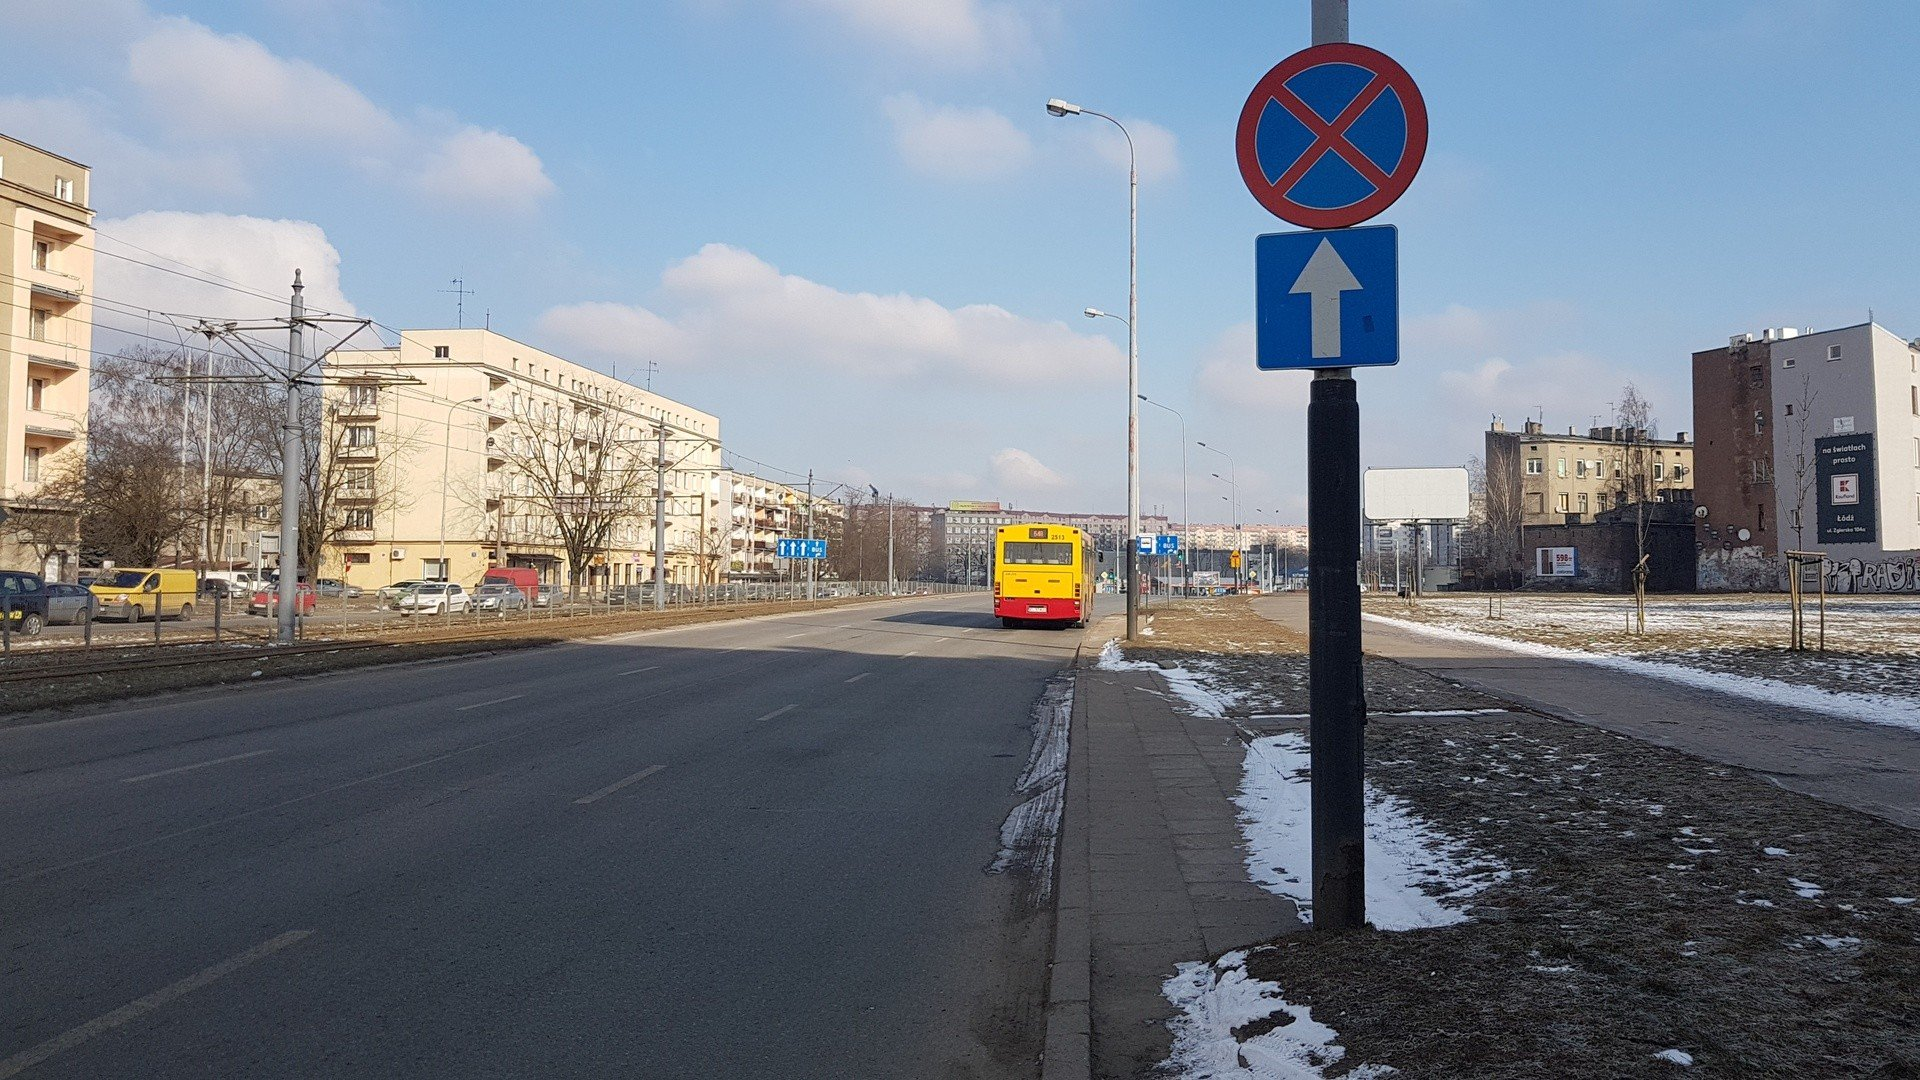no_stopping_sign: (1233, 40, 1431, 228)
